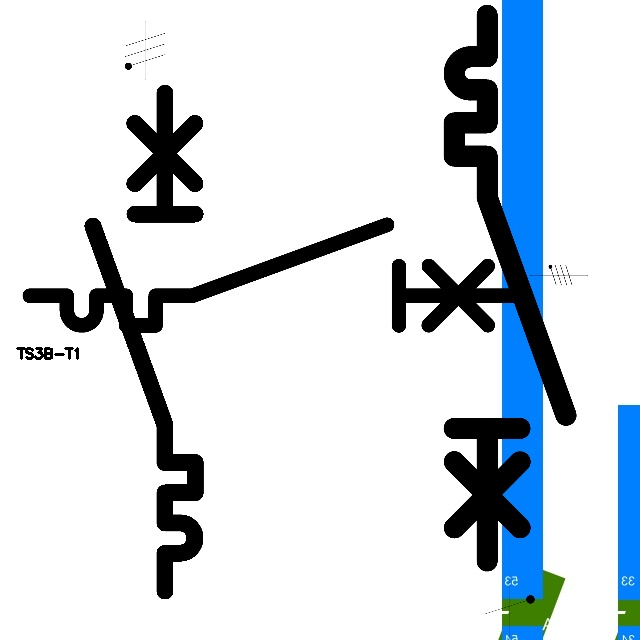interruptor_termomagnetico: (440, 1, 580, 575), (80, 80, 208, 604), (17, 212, 530, 338)
